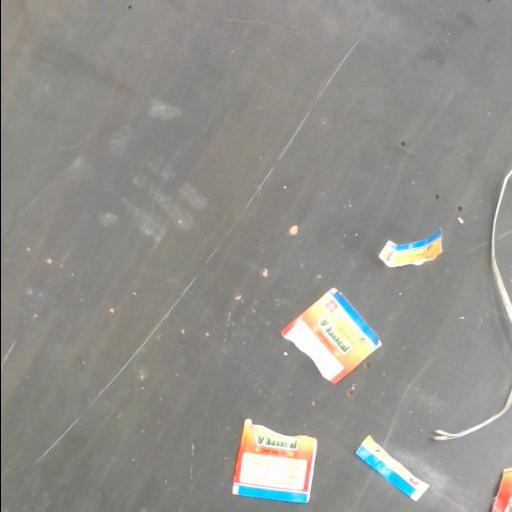conveyor belt: (1, 0, 512, 511), (496, 178, 512, 299)
packet: (281, 288, 380, 383), (232, 419, 316, 502), (355, 435, 428, 500), (378, 231, 441, 266), (491, 468, 512, 511)
thread: (433, 384, 512, 440), (489, 166, 512, 326)
